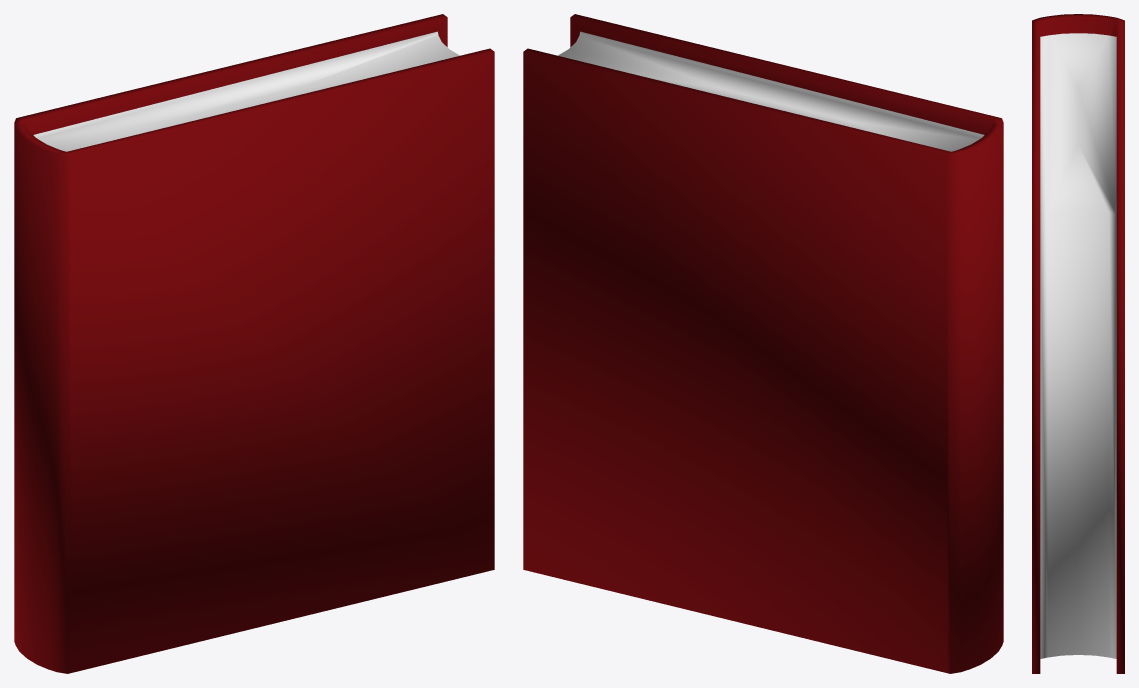
Rendered from RedBook.fbx.
3 views of the same model, side by side, from view 1: azimuth 30°, elevation 25°; view 2: azimuth 150°, elevation 25°; view 3: azimuth 270°, elevation 25° (orthographic). The views are drawn at different scales.
Parts seen in each view (by area): view 1: book; view 2: book; view 3: book.
Boxes of the visible parts, <box> form: book: <box>14,14,494,673</box>; book: <box>523,14,1003,673</box>; book: <box>1032,14,1124,673</box>.
Bounding box in the file's own units: 2.49 × 2.79 × 0.5035.
